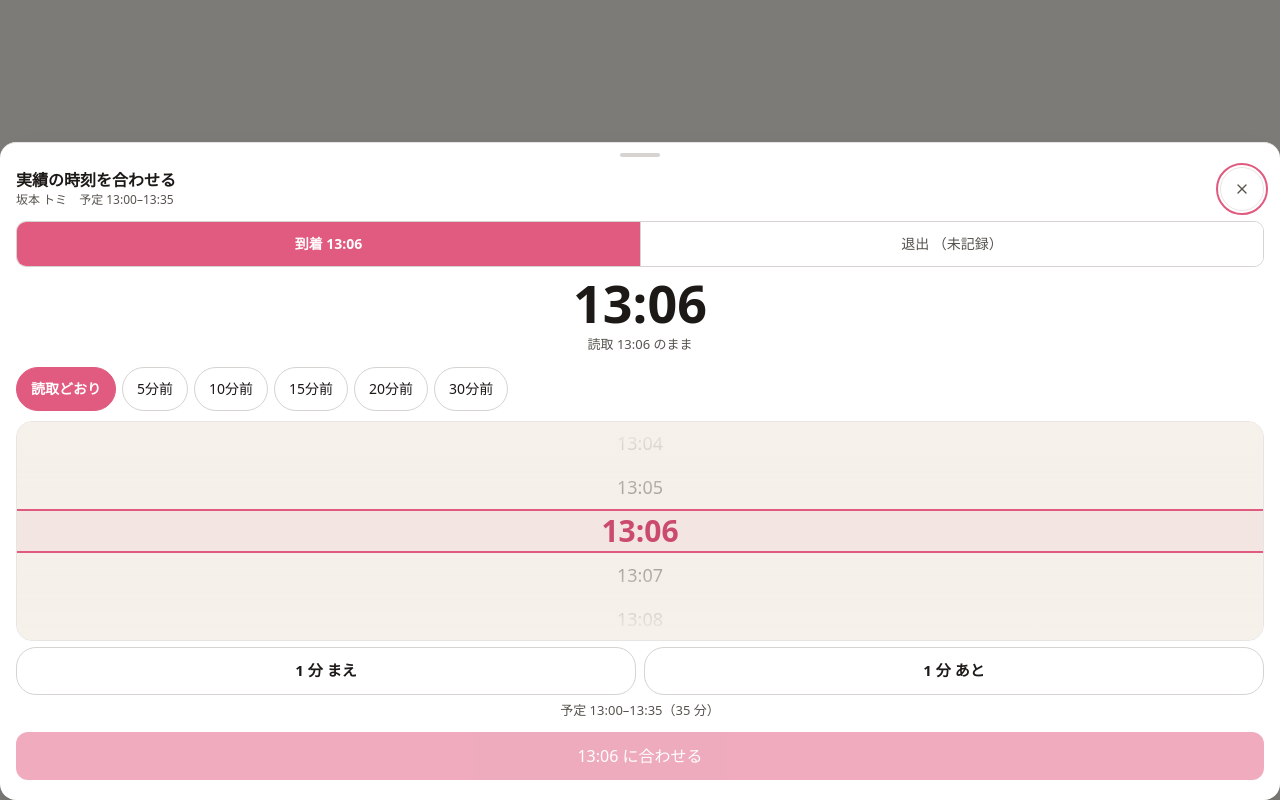
Test: ActualTimeSheet — 退出 › 未記録の退出は「合わせる」ではなく「退出を HH:MM で記録する」— 新しく記録する操作だと分かる (M-2)
(page scrolled)
Expected: the button "13:06 に合わせる" is shown, [16,732,1264,780]
到着を合わせに来て、退出側へ切り替えた。
Click the button "退出 （未記録）" at x=952, y=244, box [640,222,1263,266]
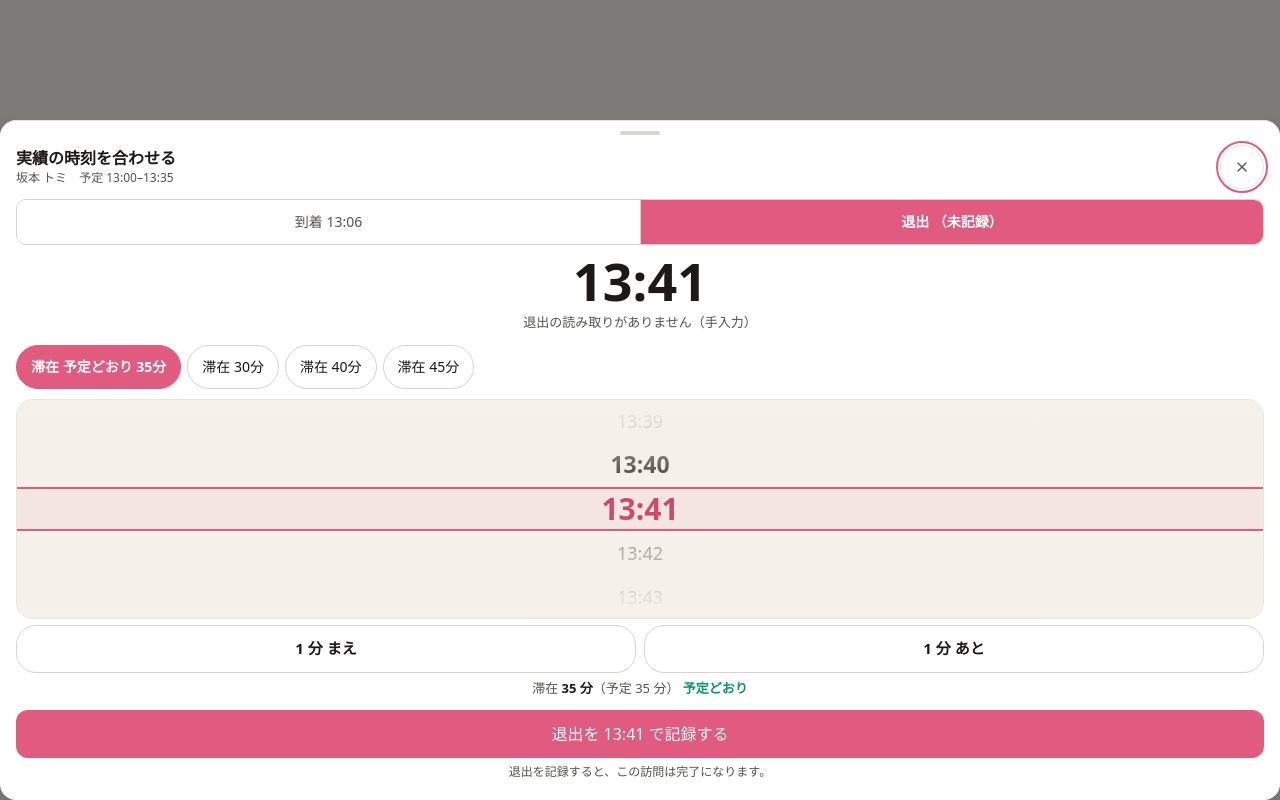
Expected: the button "退出を 13:41 で記録する" is shown, [16,710,1264,758]
Expected: the button "に合わせる" is gone
Expected: the text with test id "actual-time-manual-note" reads "退出を記録すると、この訪問は完了になります。", [509,763,771,780]
Click the button "滞在 30分" at x=233, y=366, box [187,344,279,388]
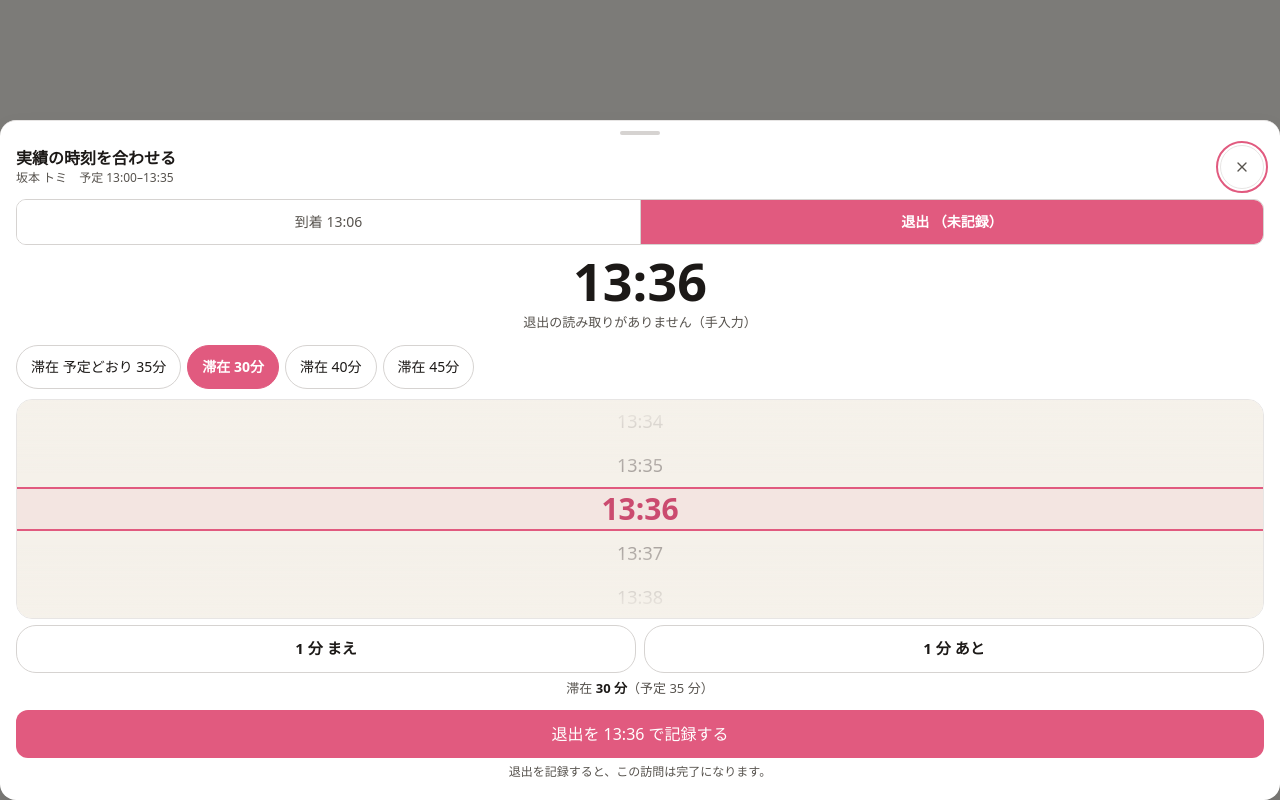
Expected: the button "退出を 13:36 で記録する" is shown, [16,710,1264,758]
